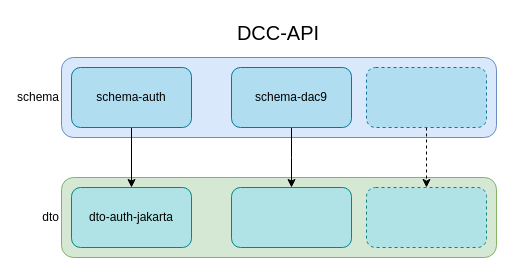
This 514x275 diagram has some shape labels left out. The box of each missing label's shape, as (x1, y1, x2, y2) in pixels:
dto-dac9-jakarta: (230, 186, 352, 248)
dto-xy-jakarta: (366, 186, 486, 248)
schema-xy: (366, 66, 486, 128)
